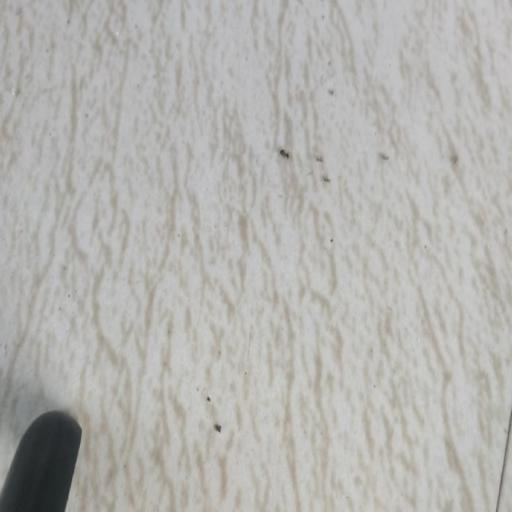Ant-Traffic: (368, 128, 394, 189), (270, 122, 293, 179), (306, 129, 330, 172), (318, 172, 338, 203)
